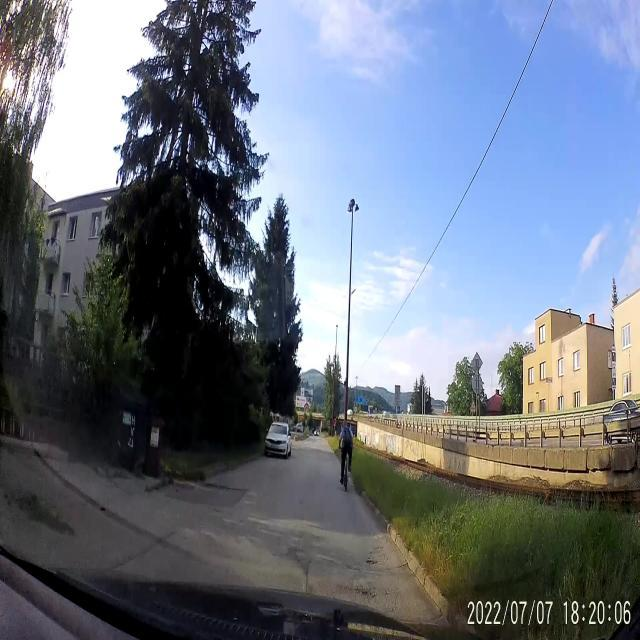Pothole: (362, 542, 388, 574), (200, 480, 234, 494)
